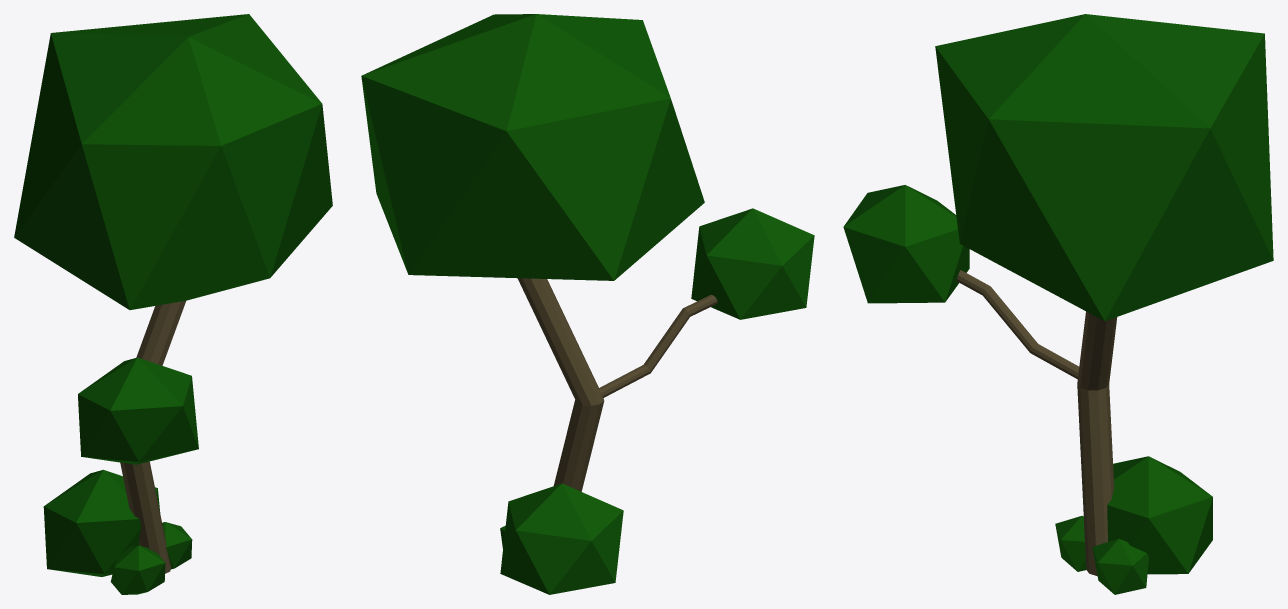
Rendered from tree-0.glb.
The picture shows the model from 3 angles, left to right: view 1: azimuth 30°, elevation 25°; view 2: azimuth 150°, elevation 25°; view 3: azimuth 270°, elevation 25°; orthographic projection. The views are drawn at different scales.
Visible parts, largest first — view 1: Icosphere.001, Icosphere, Icosphere.002, Cylinder, Icosphere.003, Icosphere.004; view 2: Icosphere.001, Icosphere.002, Icosphere, Cylinder, Cylinder.001; view 3: Icosphere.001, Icosphere, Icosphere.002, Cylinder, Icosphere.004, Cylinder.001, Icosphere.003.
Part boxes in pixels (x1,y1,x2,y2): Icosphere.001: (14,14,332,309); Icosphere: (78,357,198,464); Icosphere.002: (43,469,160,576); Cylinder: (120,300,185,573); Icosphere.003: (110,545,165,594); Icosphere.004: (162,522,192,569); Icosphere.001: (361,14,704,280); Icosphere.002: (500,483,623,594); Icosphere: (691,208,814,319); Cylinder: (517,278,604,491); Cylinder.001: (599,294,717,397); Icosphere.001: (935,14,1273,321); Icosphere: (843,185,969,303); Icosphere.002: (1107,456,1212,574); Cylinder: (1077,311,1117,576); Icosphere.004: (1092,539,1148,594); Cylinder.001: (957,270,1079,378); Icosphere.003: (1055,516,1086,571).
Size of the model in its own units: 3.24 by 4.94 by 3.28.
